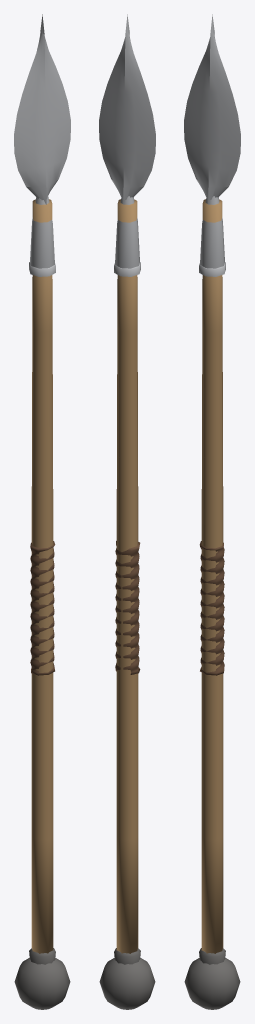
File: weighted-spear.glb
3 views of the same model, side by side, from view 1: azimuth 30°, elevation 25°; view 2: azimuth 150°, elevation 25°; view 3: azimuth 330°, elevation 25° (orthographic).
Visible parts, largest first — view 1: weighted-spear; view 2: weighted-spear; view 3: weighted-spear.
Boxes of the visible parts, bbox=[...] form: weighted-spear: bbox=[14, 14, 70, 1009]; weighted-spear: bbox=[99, 14, 155, 1009]; weighted-spear: bbox=[184, 14, 240, 1009].
Size of the model in its own units: 0.2349 by 3.92 by 0.2.
